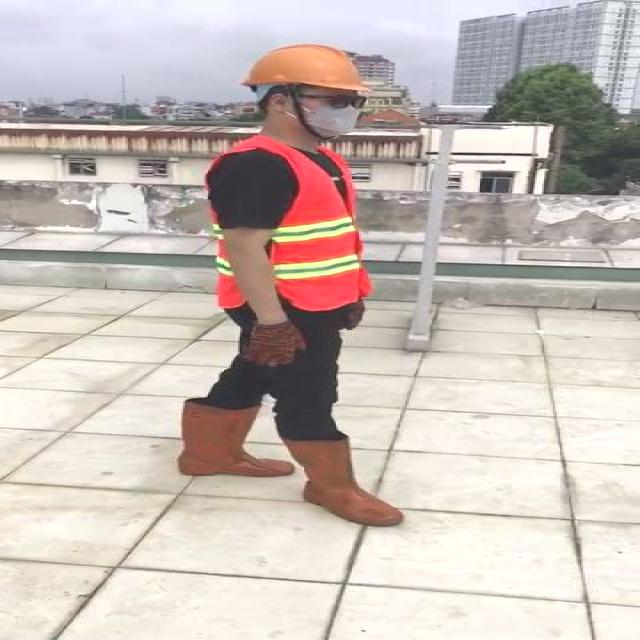boots: (286, 438, 406, 527), (174, 402, 284, 477)
face_mask: (295, 91, 368, 140)
glasses: (319, 90, 374, 111)
hand_glove: (243, 321, 310, 365)
head_helmet: (239, 42, 373, 94)
person: (175, 37, 410, 531)
vest: (213, 139, 368, 306)
